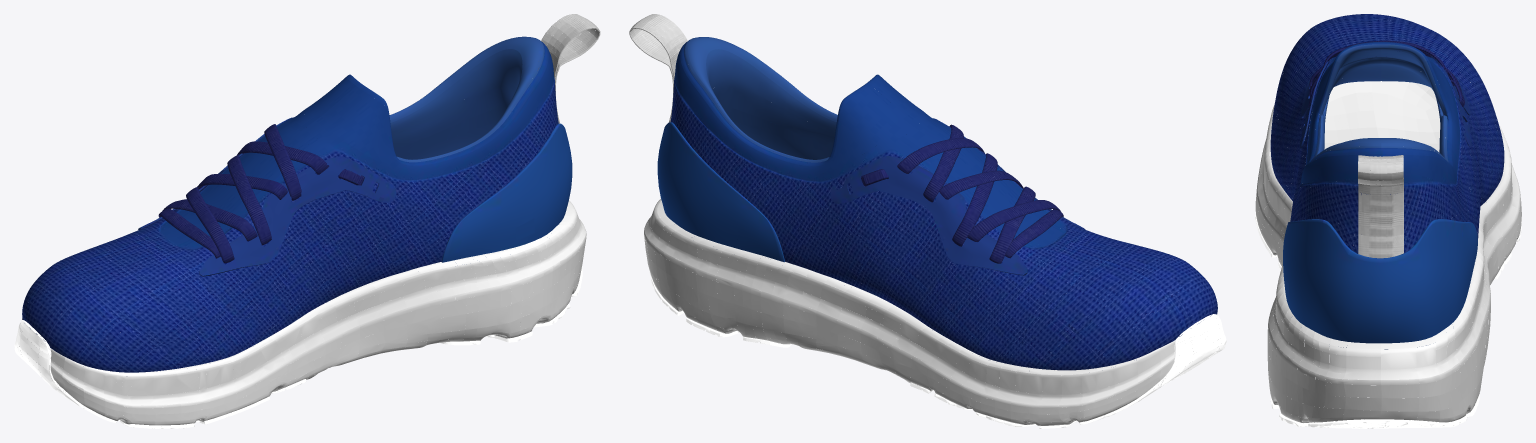
File: shoe_website_hero.glb
The picture shows the model from 3 angles, left to right: view 1: azimuth 30°, elevation 25°; view 2: azimuth 150°, elevation 25°; view 3: azimuth 270°, elevation 25°; orthographic projection. The views are drawn at different scales.
Visible parts, largest first — view 1: pasted__polySurface1, Botto, pasted__polySurface2, pasted__polySurface14, pasted__polySurface5, pasted__polySurface9, pasted__polySurface6, pasted__polySurface7, pasted__polySurface18; view 2: pasted__polySurface1, Botto, pasted__polySurface2, pasted__polySurface14, pasted__polySurface8, pasted__polySurface6, pasted__polySurface9, pasted__polySurface18; view 3: pasted__polySurface1, Botto, pasted__polySurface2, Insole, pasted__polySurface9, pasted__polySurface18, pasted__polySurface14, pasted__polySurface5, pasted__polySurface8, pasted__polySurface7.
Boxes of the visible parts, x1=… form: pasted__polySurface1: x1=22, y1=36, x2=558, y2=372; Botto: x1=19, y1=200, x2=586, y2=425; pasted__polySurface2: x1=441, y1=123, x2=572, y2=262; pasted__polySurface14: x1=158, y1=124, x2=328, y2=263; pasted__polySurface5: x1=199, y1=156, x2=396, y2=276; pasted__polySurface9: x1=537, y1=14, x2=600, y2=123; pasted__polySurface6: x1=14, y1=320, x2=116, y2=422; pasted__polySurface7: x1=118, y1=374, x2=306, y2=428; pasted__polySurface18: x1=440, y1=266, x2=582, y2=345; pasted__polySurface1: x1=670, y1=37, x2=1217, y2=370; Botto: x1=644, y1=199, x2=1218, y2=425; pasted__polySurface2: x1=657, y1=122, x2=784, y2=262; pasted__polySurface14: x1=897, y1=124, x2=1063, y2=263; pasted__polySurface8: x1=830, y1=156, x2=1027, y2=275; pasted__polySurface6: x1=1039, y1=314, x2=1226, y2=428; pasted__polySurface9: x1=629, y1=14, x2=687, y2=122; pasted__polySurface18: x1=649, y1=270, x2=806, y2=347; pasted__polySurface1: x1=1270, y1=14, x2=1504, y2=253; Botto: x1=1255, y1=105, x2=1521, y2=422; pasted__polySurface2: x1=1283, y1=219, x2=1477, y2=349; Insole: x1=1324, y1=81, x2=1445, y2=245; pasted__polySurface9: x1=1358, y1=155, x2=1403, y2=258; pasted__polySurface18: x1=1270, y1=363, x2=1479, y2=428; pasted__polySurface14: x1=1309, y1=40, x2=1461, y2=97; pasted__polySurface5: x1=1299, y1=59, x2=1330, y2=149; pasted__polySurface8: x1=1430, y1=56, x2=1471, y2=147; pasted__polySurface7: x1=1255, y1=205, x2=1521, y2=279.
Size of the model in its own units: 0.3545 by 0.1553 by 0.1217.
6 materials, 3 textured.
